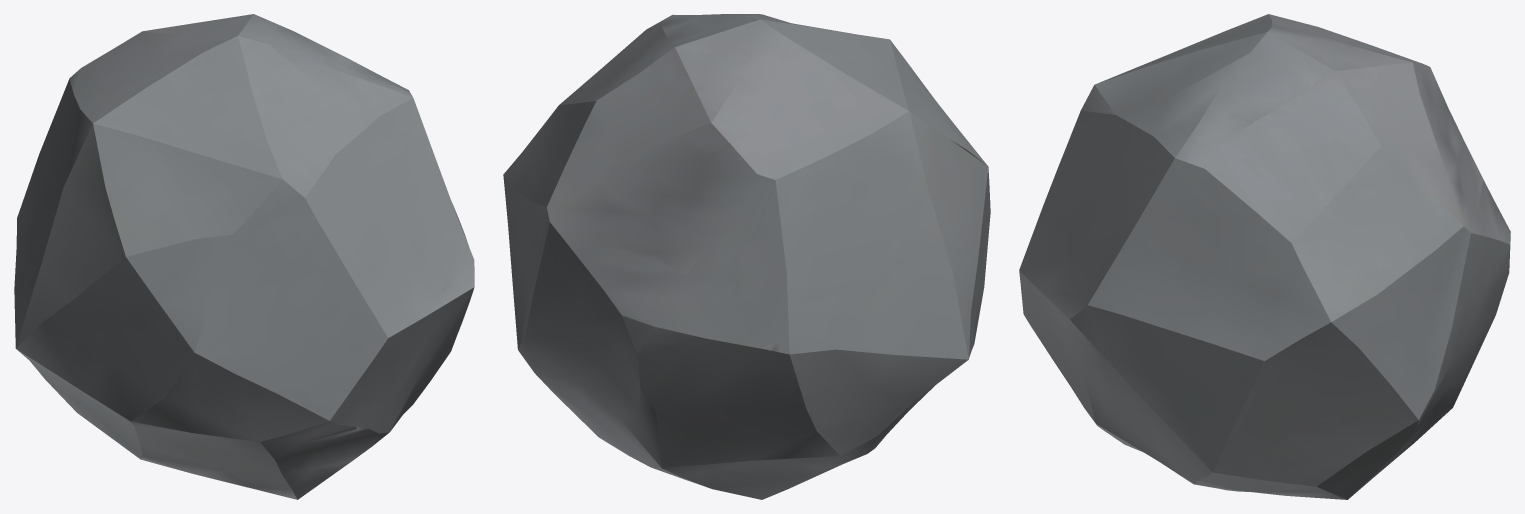
Rendered from rock.glb.
3 renders of one model, left to right at view 1: azimuth 30°, elevation 25°; view 2: azimuth 150°, elevation 25°; view 3: azimuth 270°, elevation 25°, orthographic. The views are drawn at different scales.
Parts seen in each view (by area): view 1: model; view 2: model; view 3: model.
Boxes of the visible parts, box(x1,y1,x2,y2) form: model: box(14, 14, 474, 499); model: box(503, 14, 990, 499); model: box(1019, 14, 1510, 499).
Bounding box in the file's own units: 1.9 × 1.86 × 1.86.
1 material, 1 textured.
